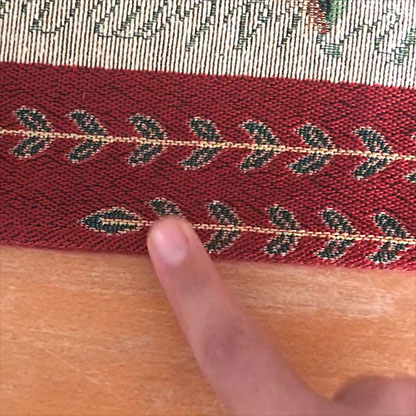fingertip: (127, 201, 211, 283)
